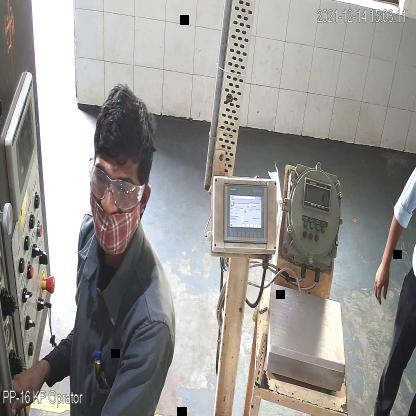goggles: (85, 166, 141, 211)
no_glove: (372, 207, 404, 308)
